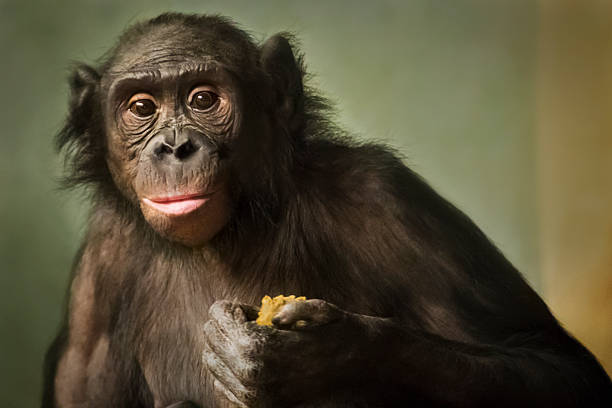chimpanzee: (26, 9, 339, 270)
